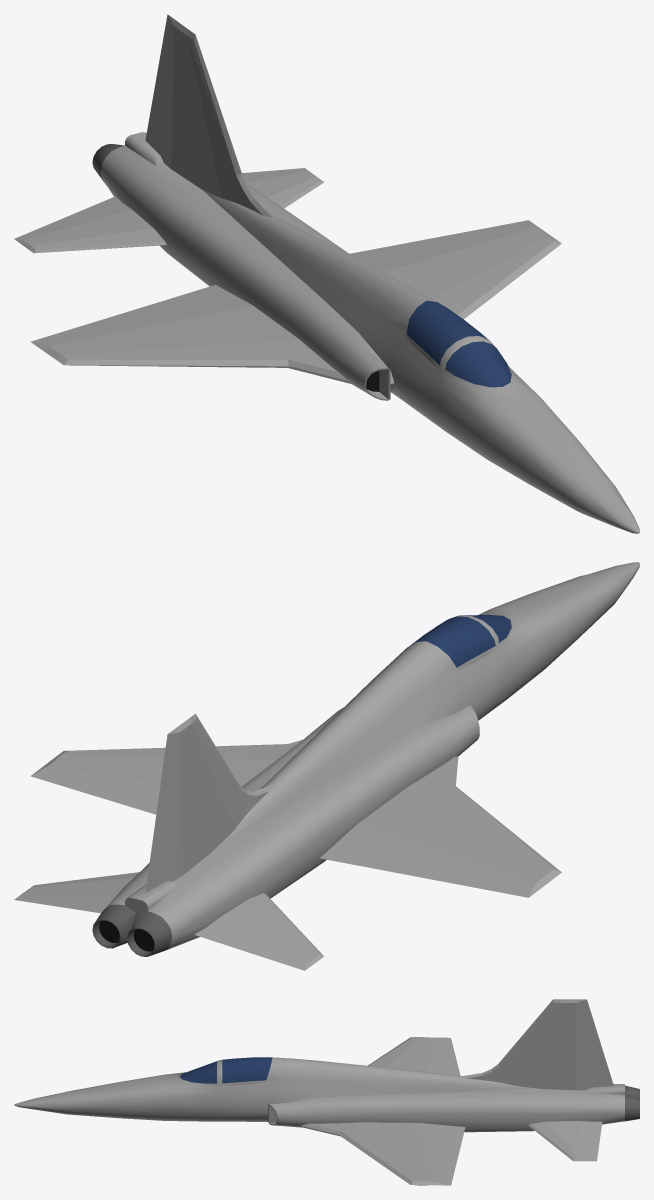
Rendered from F5_FREEDOM_FIGHTER.glb.
The picture shows the model from 3 angles, top to bottom: view 1: azimuth 30°, elevation 25°; view 2: azimuth 150°, elevation 25°; view 3: azimuth 270°, elevation 25°; orthographic projection. The views are drawn at different scales.
Parts seen in each view (by area): view 1: f5_freedom_fighter; view 2: f5_freedom_fighter; view 3: f5_freedom_fighter.
Boxes of the visible parts, x1,y1,x2,y2 form: f5_freedom_fighter: (14,14,639,533); f5_freedom_fighter: (14,562,639,970); f5_freedom_fighter: (14,999,639,1185).
Bounding box in the file's own units: 8.04 × 3.06 × 14.4.
